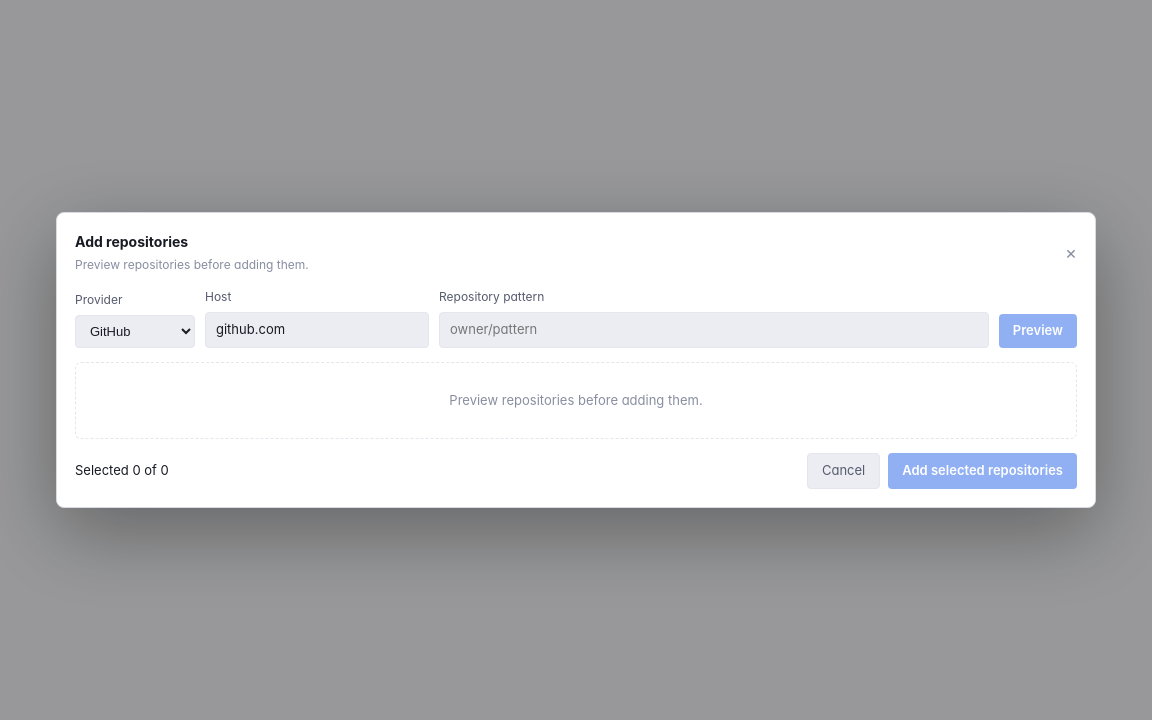
Test: RepoImportModal › previews rows and defaults selectable rows to selected
Type "acme/*" into the field labelled "Repository pattern".
click(714, 330); type("acme/*")  # box [439, 312, 989, 348]
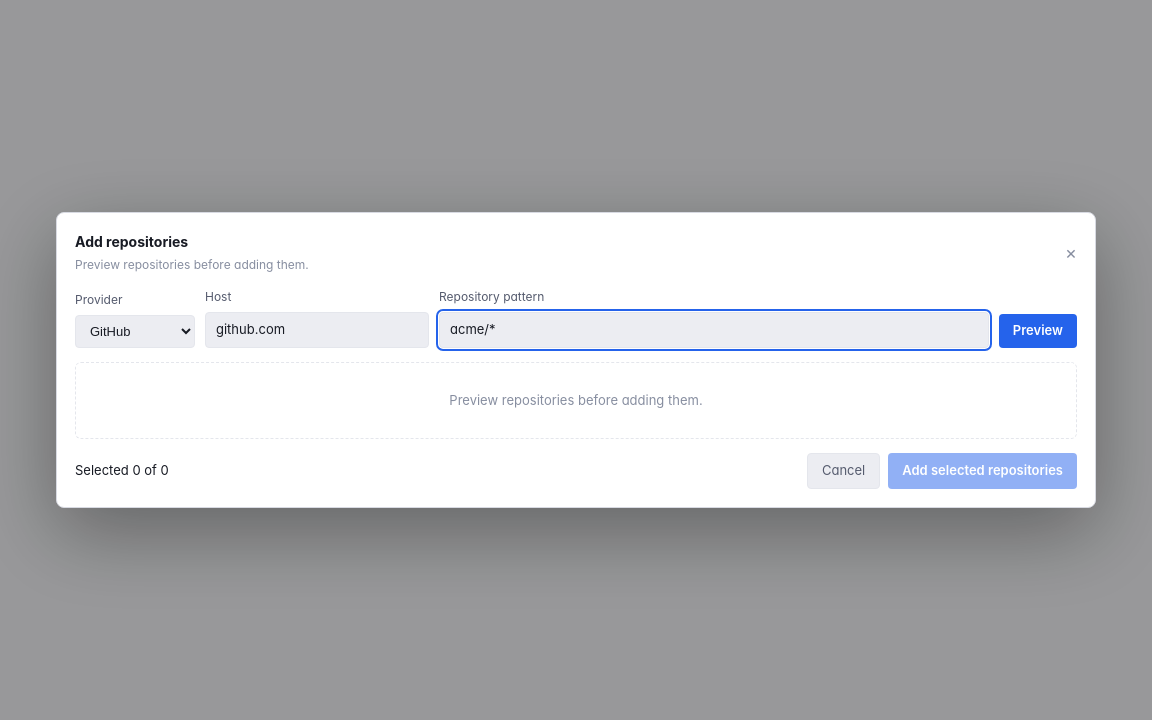
Click the button "Preview".
click(1038, 331)  # box [999, 314, 1077, 348]
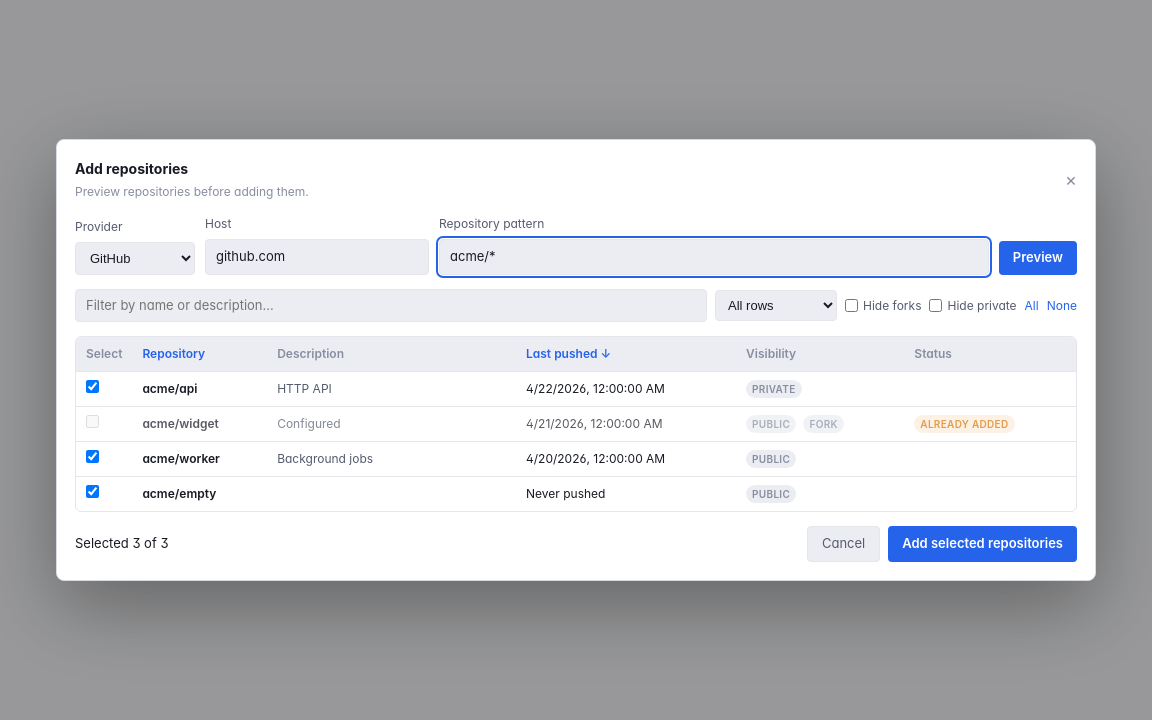
Expected: the text "acme/api" is shown, [132, 372, 267, 407]
Expected: the text "Selected 3 of 3" is shown, [75, 534, 168, 554]
Expected: the checkbox named "Select acme/widget" is disabled, [86, 415, 99, 428]
